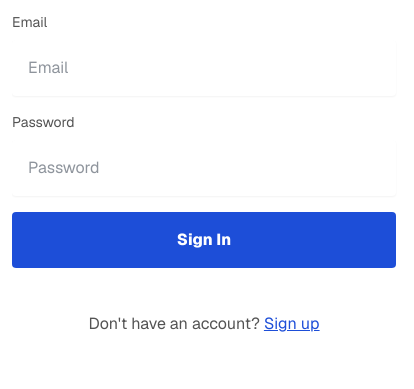
Test: SignInForm › renders a generic error and logs when signIn throws
The image size is (414, 389).
In the field labelled "Email": (204, 68) [12,40,396,96], type "a@b.com"
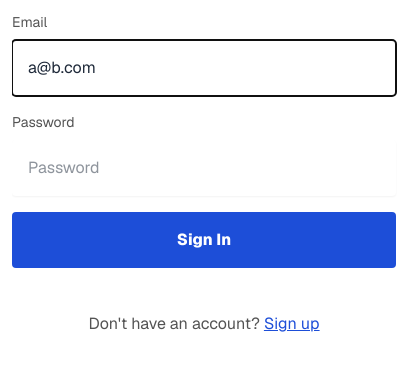
In the password field labelled "Password": (204, 168) [12,140,396,196], type "pw"
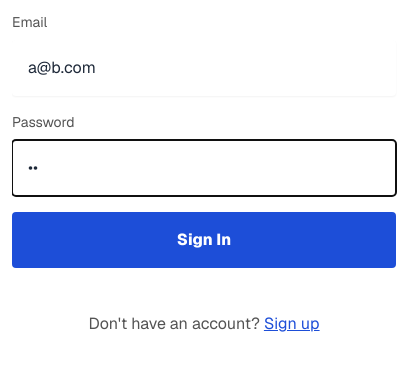
Click the button "Sign In": click(204, 240) [12,212,396,268]
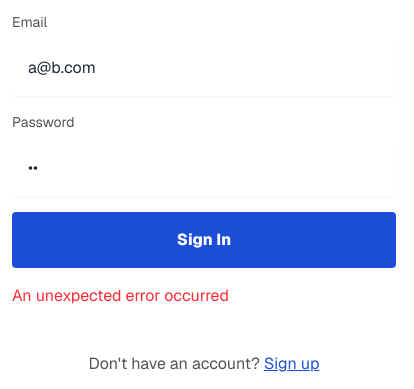
Check: the text "An unexpected error occurred" is shown, box [12,285,229,306]
